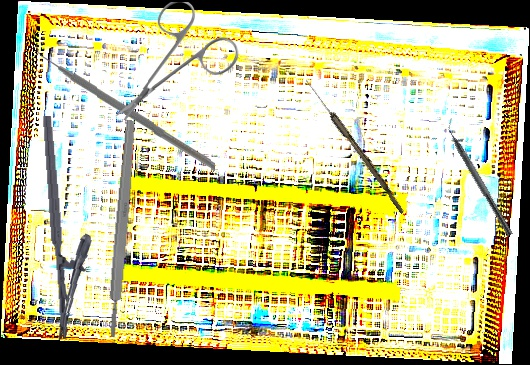Chopper: (33, 33, 218, 171), (440, 116, 521, 237)
Iris Scissors: (112, 0, 241, 121)
Needle Holder: (41, 113, 99, 340)
Scalpel Handle: (105, 119, 138, 338)
Surgical Spoon: (302, 78, 408, 214)
